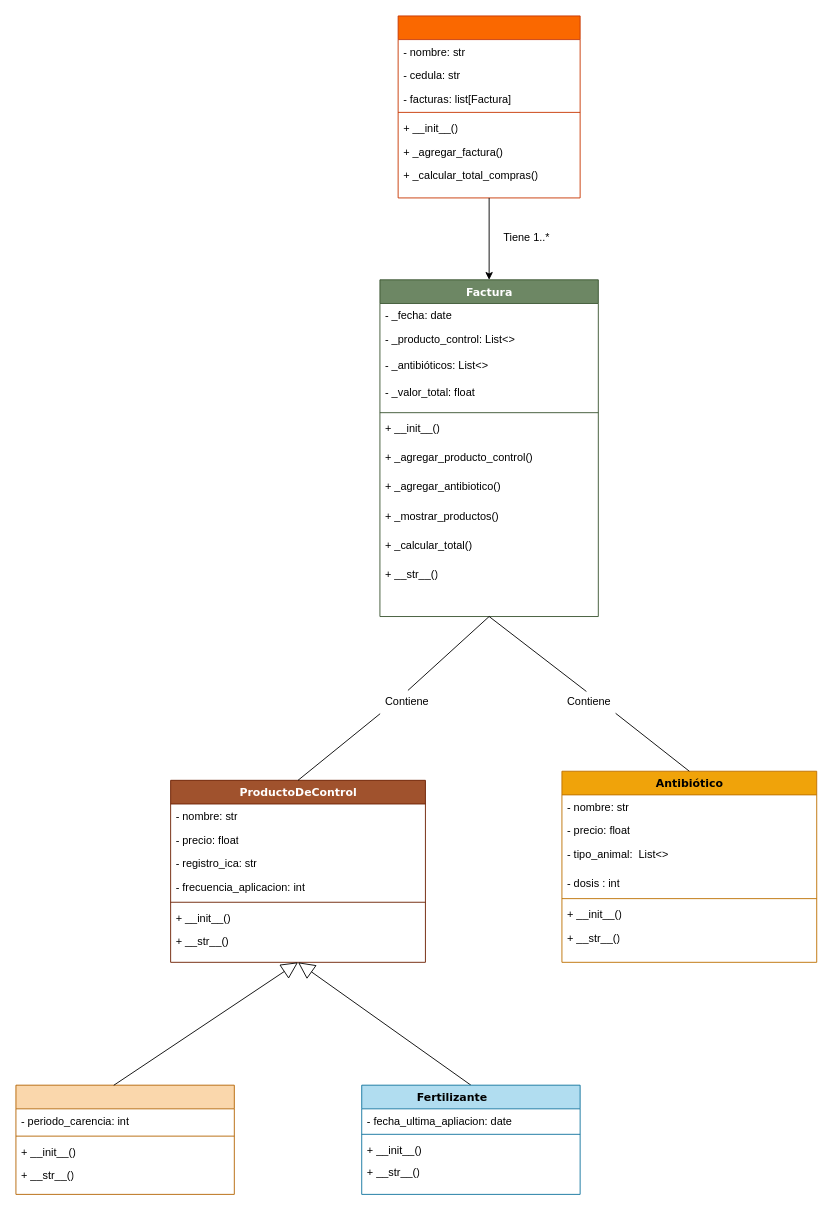
The diagram is 833 pixels wide and 1210 high, and some of its shapes have lost their labels. Each missing label, with the box of its shape:
Cliente: (397, 15, 580, 198)
Plaguicida: (15, 1084, 234, 1194)
